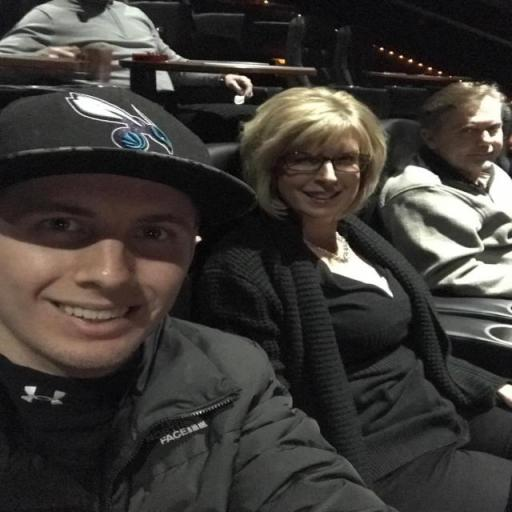Under Armour: (16, 382, 68, 408)
